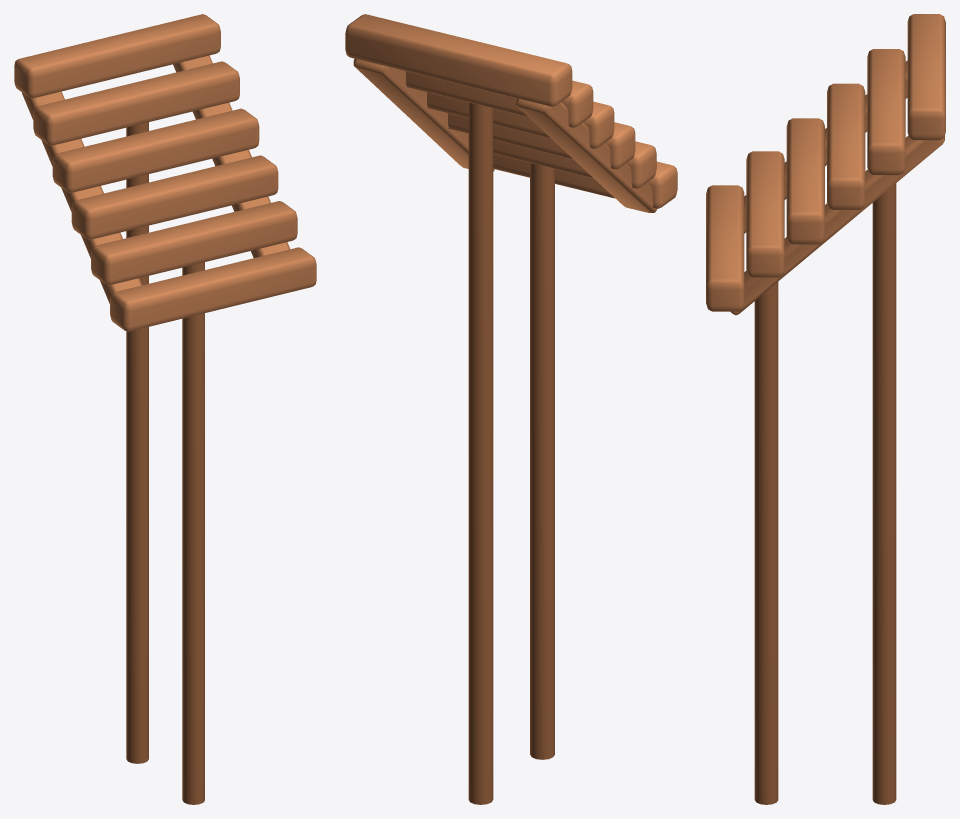
Rendered from fishing_town_stair.fbx.
3 views of the same model, side by side, from view 1: azimuth 30°, elevation 25°; view 2: azimuth 150°, elevation 25°; view 3: azimuth 270°, elevation 25° (orthographic). The views are drawn at different scales.
Visible parts, largest first — view 1: fishing_town_stair; view 2: fishing_town_stair; view 3: fishing_town_stair.
Part boxes in pixels (x1,y1,x2,y2): fishing_town_stair: (14,14,316,804); fishing_town_stair: (345,14,677,804); fishing_town_stair: (706,14,945,804).
Size of the model in its own units: 100 by 349 by 103.
1 material, 1 textured.
